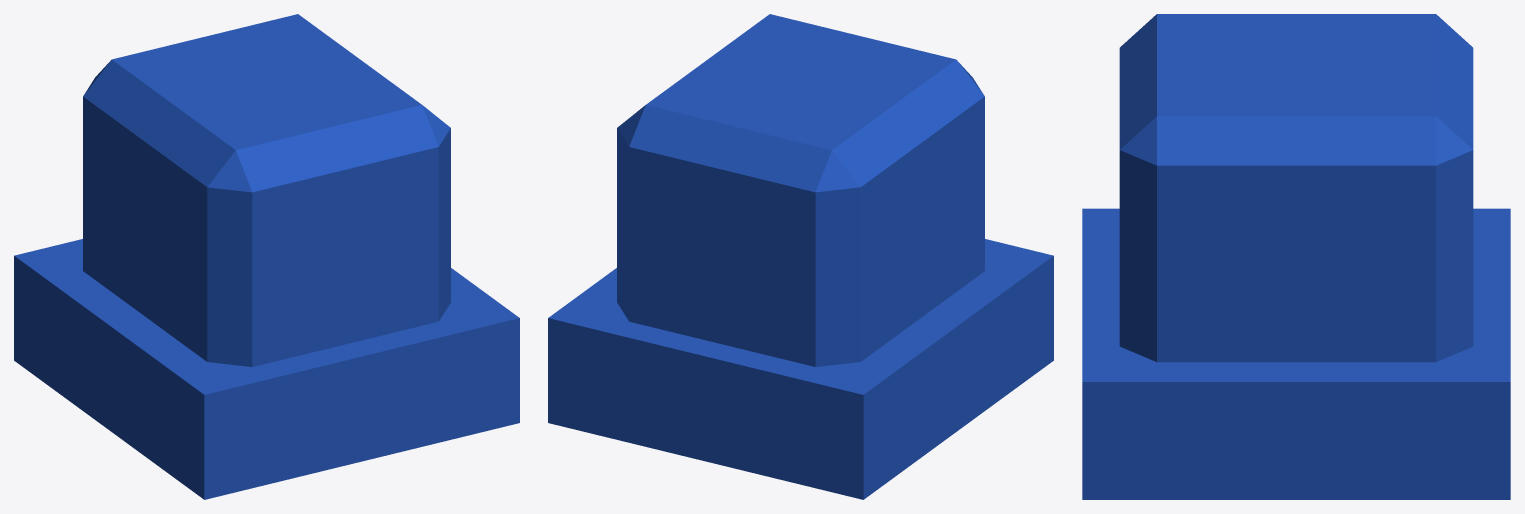
The model's file is skater_shin.glb.
The picture shows the model from 3 angles, left to right: view 1: azimuth 30°, elevation 25°; view 2: azimuth 150°, elevation 25°; view 3: azimuth 270°, elevation 25°; orthographic projection. The views are drawn at different scales.
Visible parts, largest first — view 1: ShinS; view 2: ShinS; view 3: ShinS.
Boxes of the visible parts, x1=… form: ShinS: x1=14, y1=14, x2=519, y2=499; ShinS: x1=548, y1=14, x2=1053, y2=499; ShinS: x1=1082, y1=14, x2=1510, y2=499.
Bounding box in the file's own units: 0.22 × 0.2065 × 0.23.
